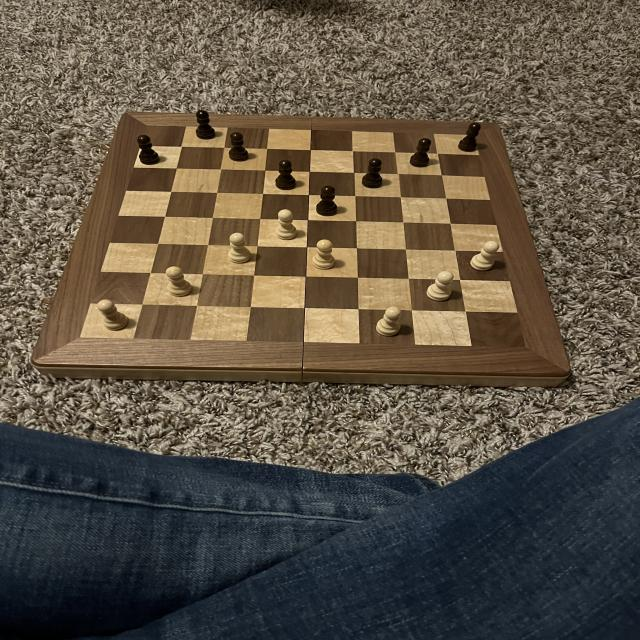black-knight: (132, 132, 164, 168), (270, 158, 302, 194), (359, 157, 390, 190), (456, 121, 486, 155), (407, 136, 437, 169), (314, 183, 342, 218), (225, 130, 253, 164), (191, 107, 217, 141)
white-knight: (96, 295, 131, 334), (307, 235, 341, 273), (372, 305, 408, 339), (270, 206, 302, 243), (224, 230, 256, 267), (469, 239, 503, 272), (426, 269, 460, 302), (162, 265, 195, 298)
